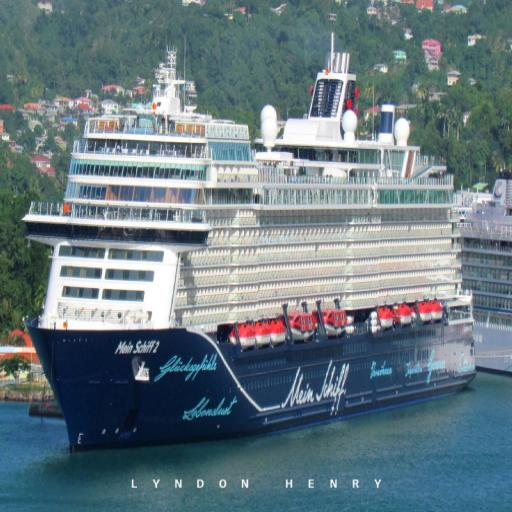cruises: (20, 50, 481, 458)
